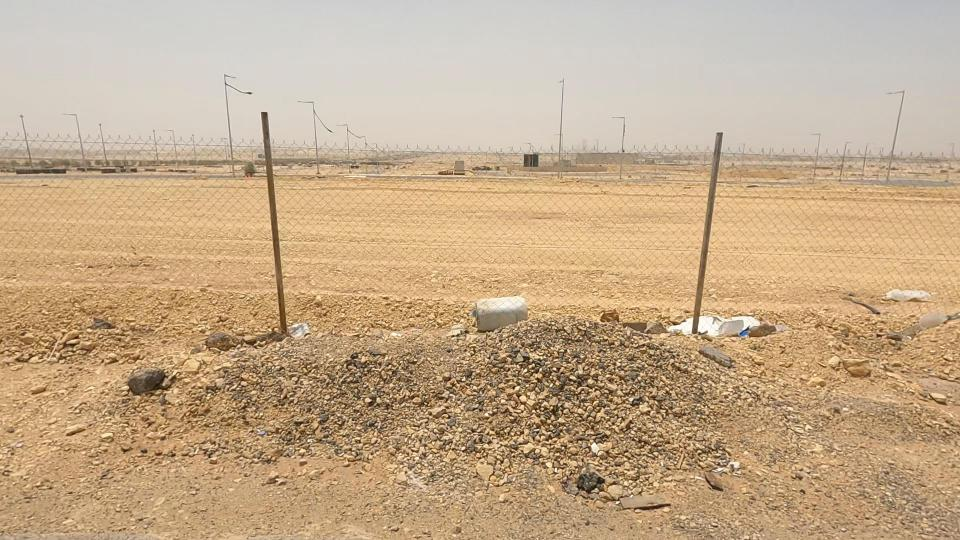GARBAGE: (607, 268, 817, 377), (400, 252, 589, 369), (543, 437, 634, 525), (849, 256, 960, 328), (250, 291, 343, 369)
